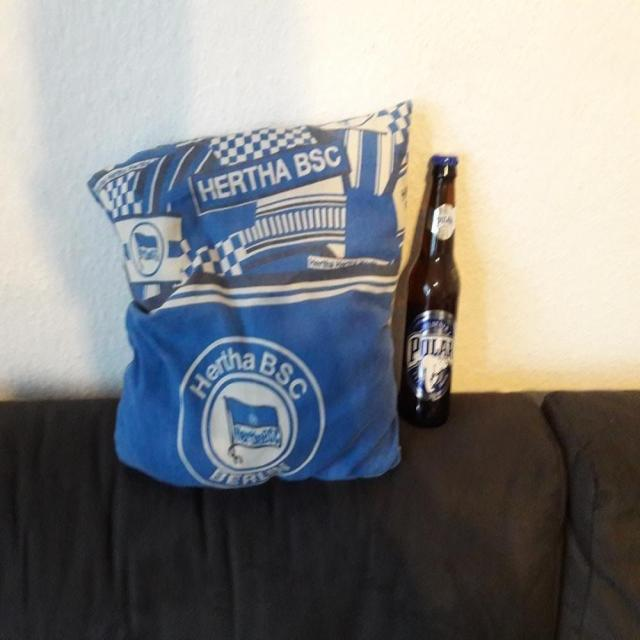bottle-glass: (398, 154, 461, 430)
